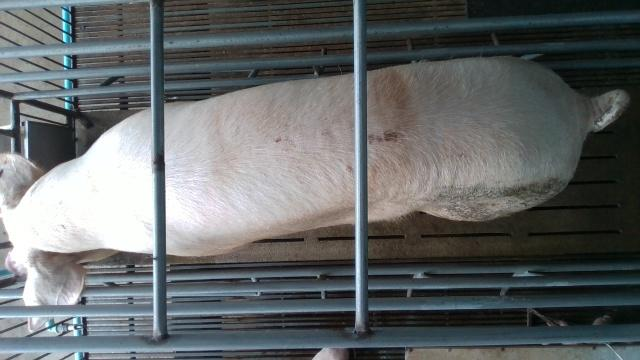sow-stand: (0, 55, 630, 332)
